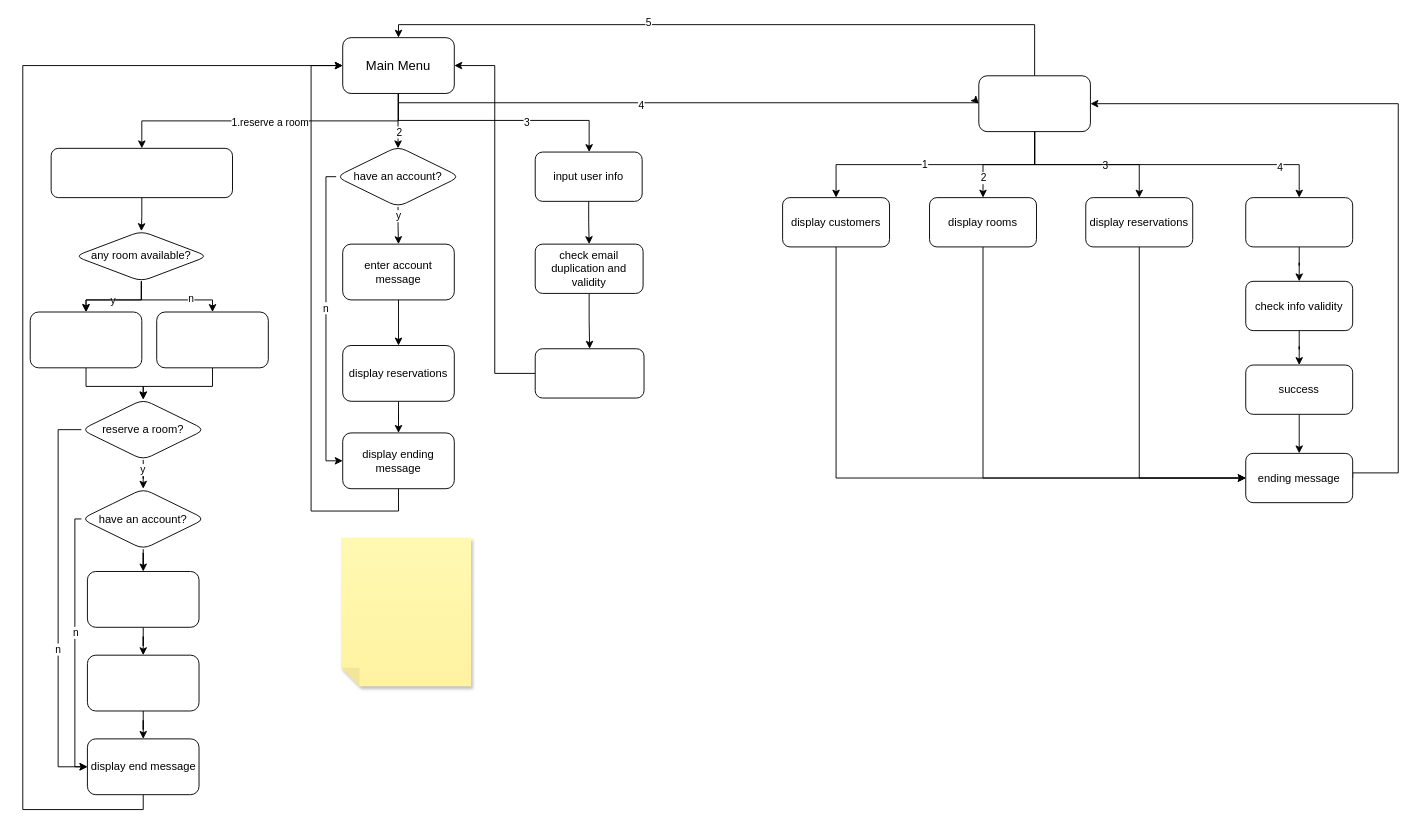
The diagram is 1422 pixels wide and 833 high, and some of its shapes have lost their labels. Here are the shapes that lost their labels. From the top down, the centre of each, then its label:
(x=1034, y=103): Admin Menu
(x=141, y=172): input chekin and checkout date
(x=1299, y=222): enter room info
(x=85, y=339): display available rooms
(x=212, y=339): display recommended rooms or nothing
(x=589, y=373): create successful
(x=142, y=599): choose an available room
(x=142, y=682): display reservation information
